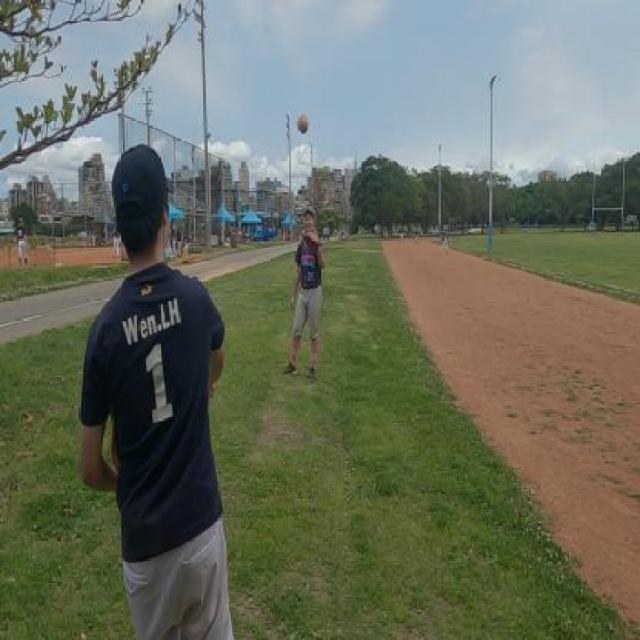baseball: (298, 113, 308, 135)
